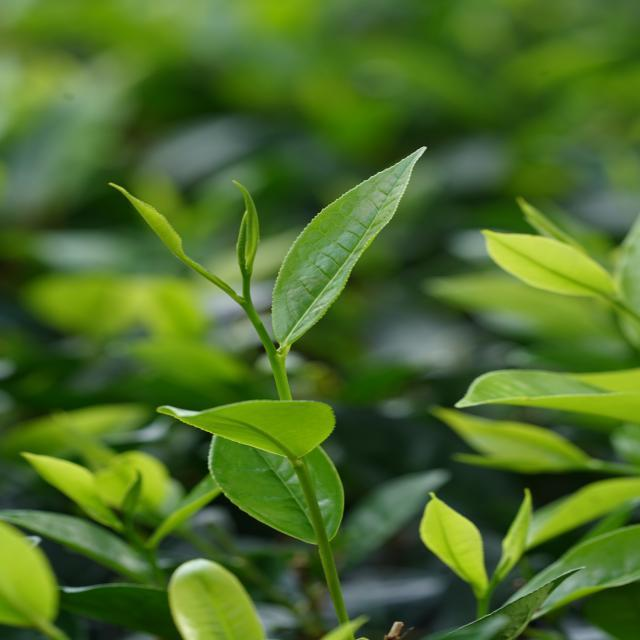Stem: (240, 298, 255, 313)
